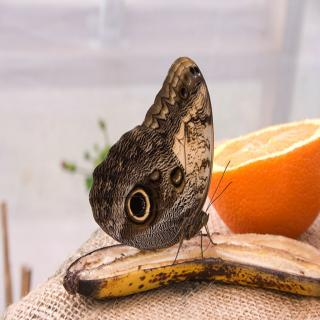Orange: (205, 126, 312, 235)
